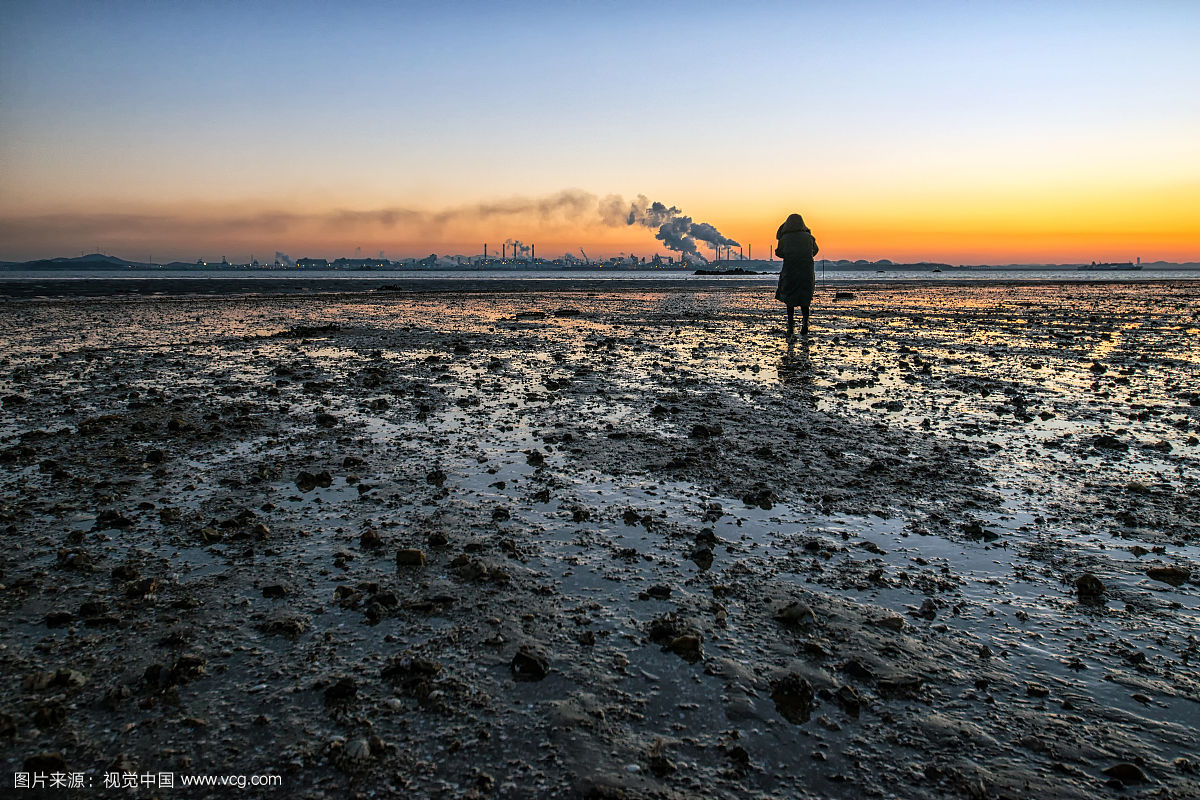dust: (538, 172, 768, 261)
